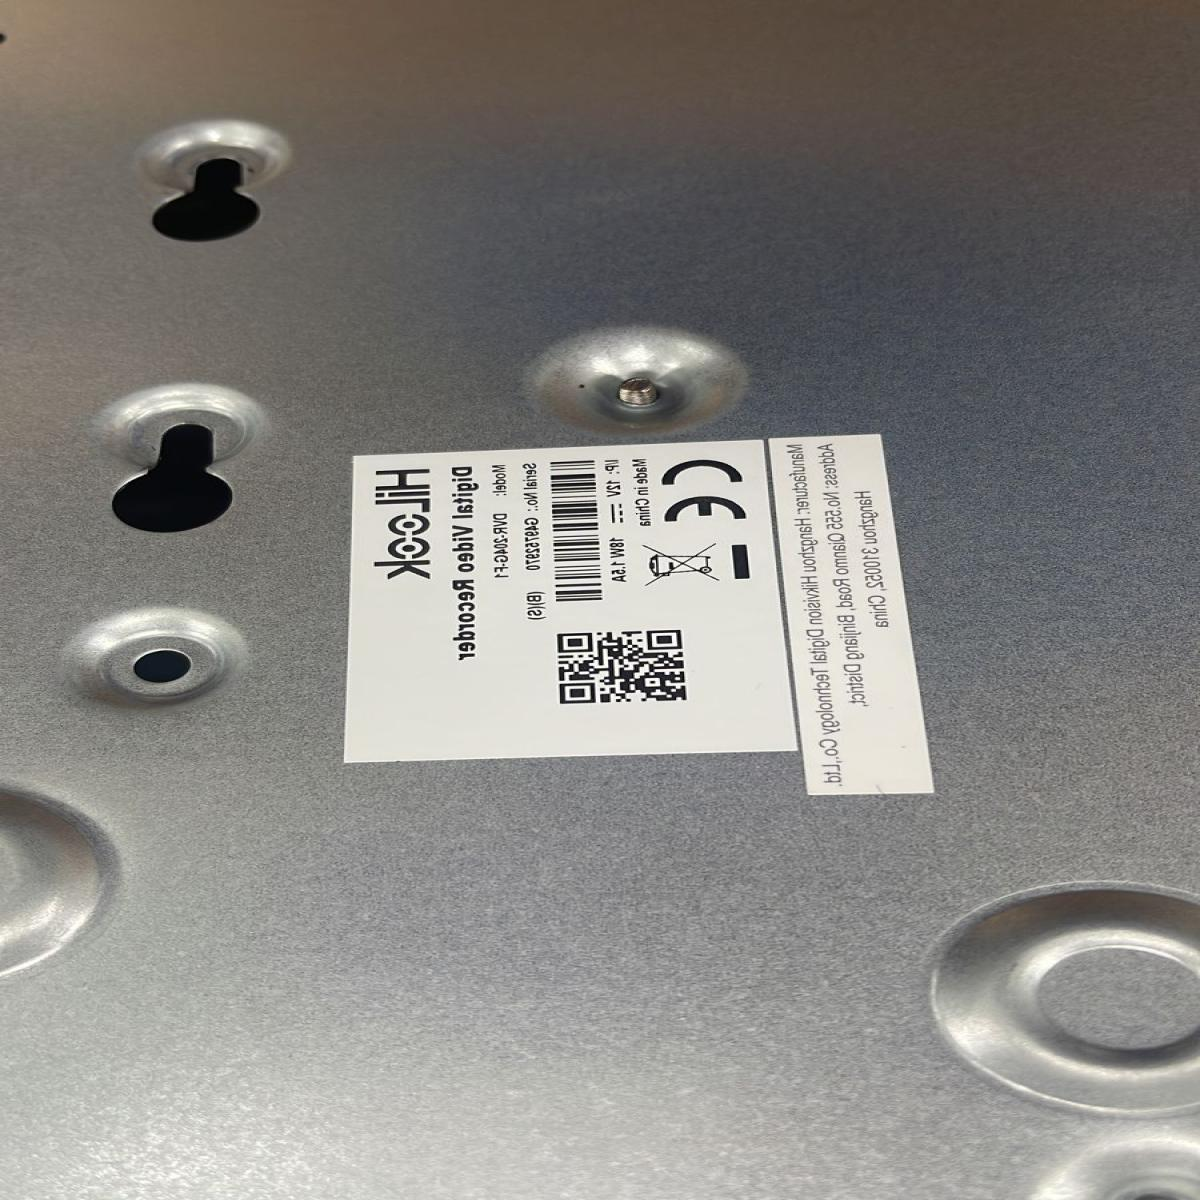Barcode: (542, 454, 609, 604)
Label: (346, 443, 800, 762)
